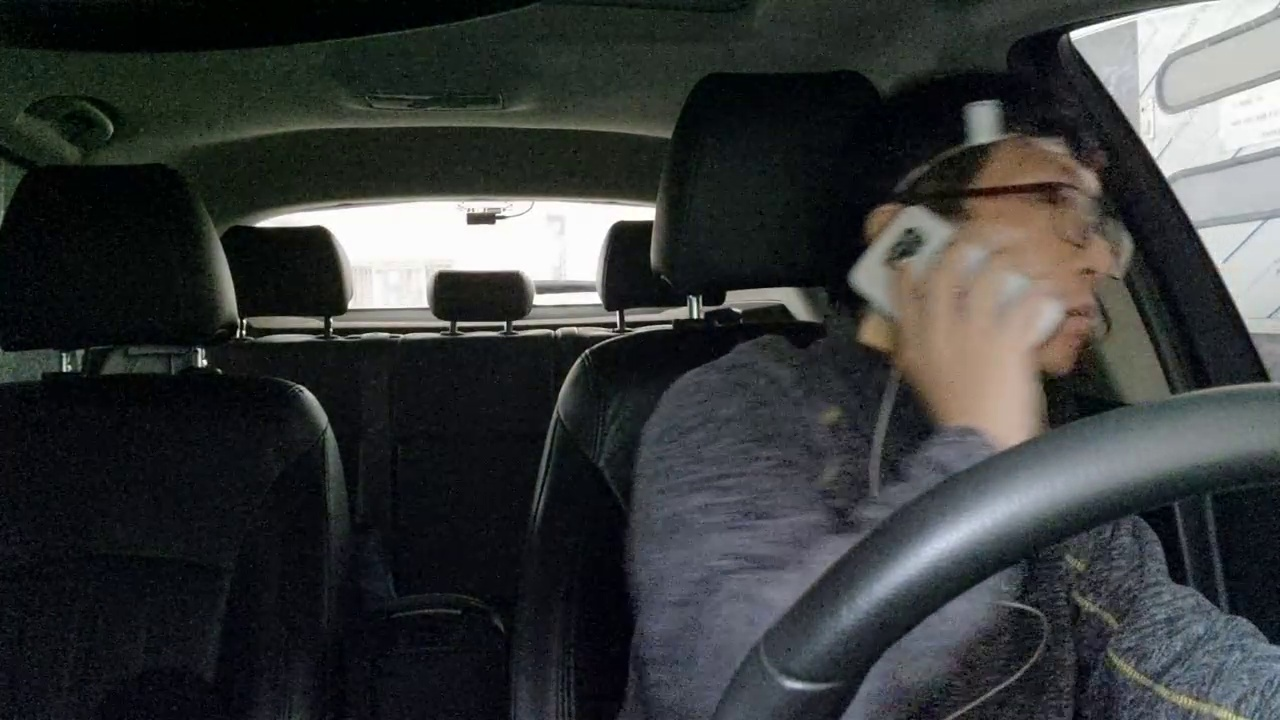phone: (813, 171, 1076, 391)
